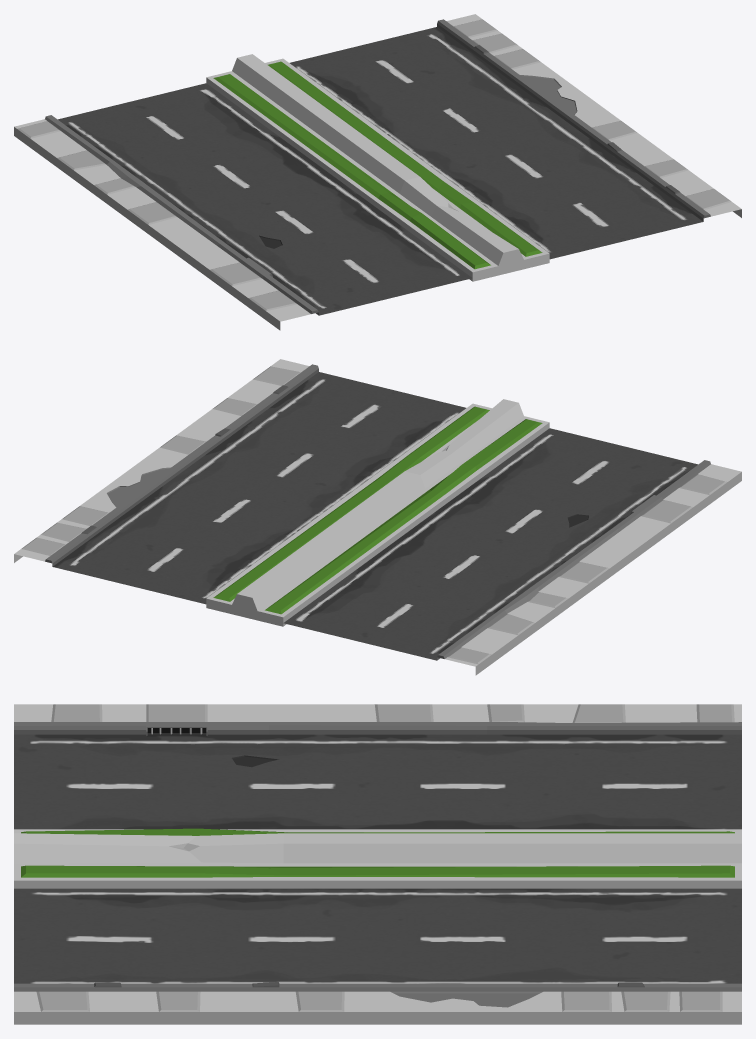
The model's file is Highway_Straight 02.fbx.
The picture shows the model from 3 angles, top to bottom: view 1: azimuth 30°, elevation 25°; view 2: azimuth 150°, elevation 25°; view 3: azimuth 270°, elevation 25°; orthographic projection. The views are drawn at different scales.
Visible parts, largest first — view 1: Highway_Straight 02; view 2: Highway_Straight 02; view 3: Highway_Straight 02.
Boxes of the visible parts, bbox=[...] form: Highway_Straight 02: bbox=[14, 14, 741, 330]; Highway_Straight 02: bbox=[14, 359, 741, 675]; Highway_Straight 02: bbox=[14, 704, 741, 1024].
Size of the model in its own units: 2400 by 117 by 2400.
